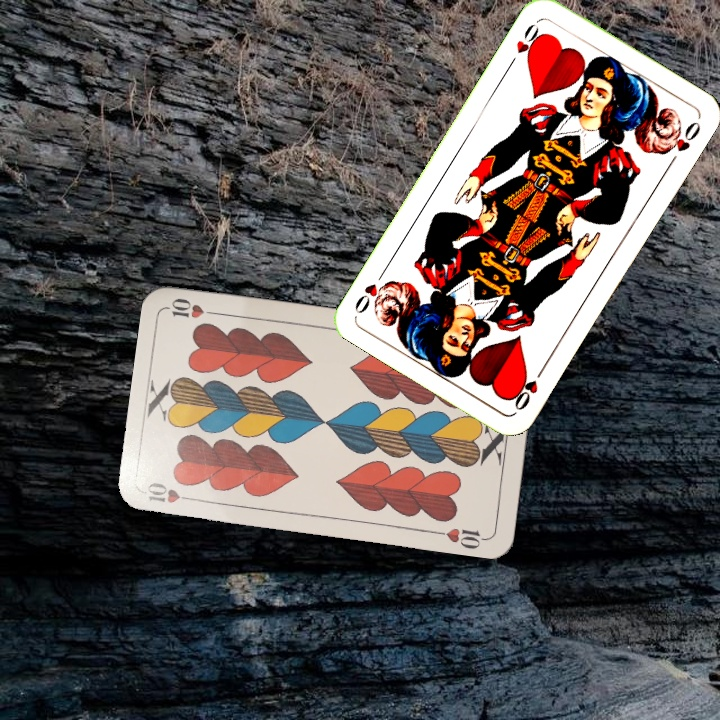H10: (143, 478, 200, 506)
HO: (504, 19, 546, 70), (508, 361, 548, 413)
